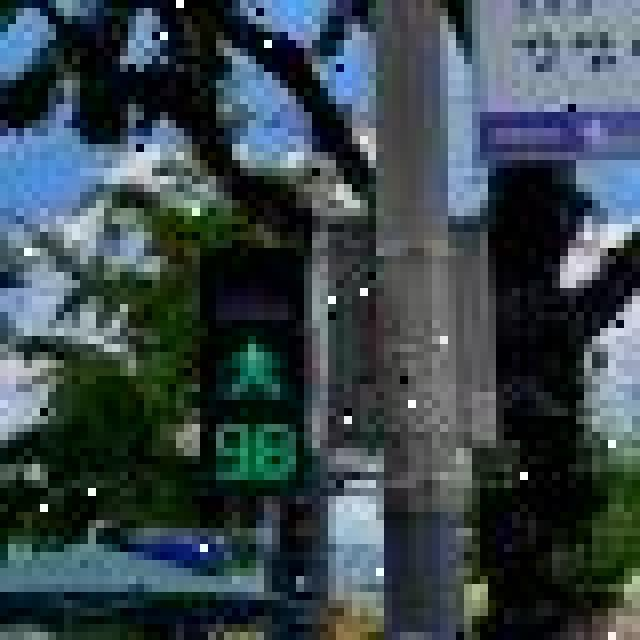greenlight: (199, 239, 305, 419)
